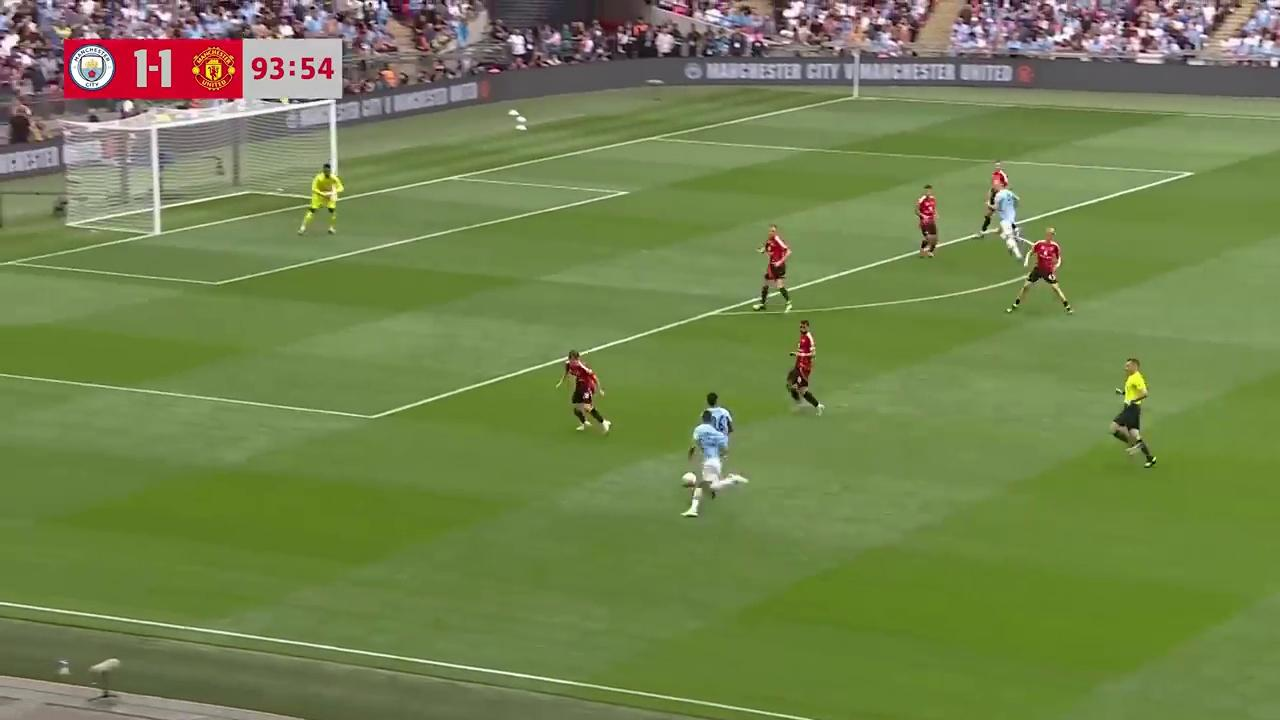ball: (681, 468, 696, 487)
player: (679, 410, 750, 518), (1007, 228, 1072, 314), (559, 352, 610, 435), (785, 319, 822, 415), (754, 225, 792, 313), (298, 162, 342, 236), (701, 392, 736, 467), (993, 183, 1026, 257), (977, 162, 1008, 237), (915, 184, 939, 258)
referee: (1110, 356, 1156, 469)
